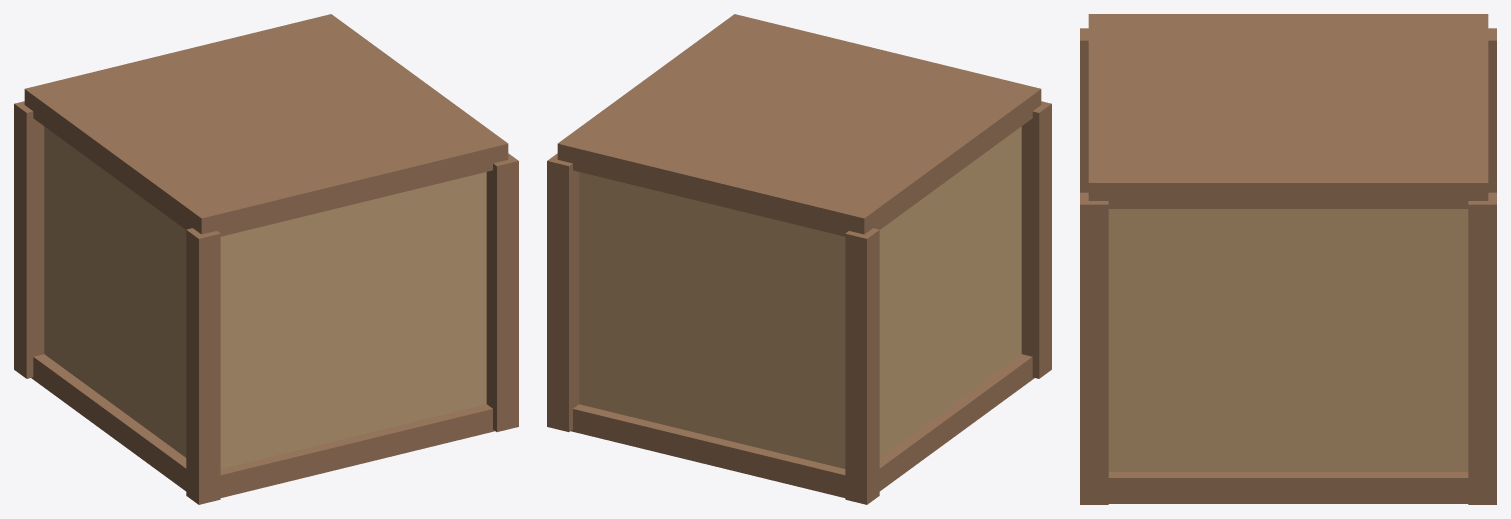
The model's file is crate_01.glb.
3 views of the same model, side by side, from view 1: azimuth 30°, elevation 25°; view 2: azimuth 150°, elevation 25°; view 3: azimuth 270°, elevation 25° (orthographic). The views are drawn at different scales.
Parts seen in each view (by area): view 1: Crate01; view 2: Crate01; view 3: Crate01.
Boxes of the visible parts, x1,y1,x2,y2 form: Crate01: [14, 14, 518, 504]; Crate01: [547, 14, 1051, 504]; Crate01: [1080, 14, 1496, 504].
Bounding box in the file's own units: 0.73 × 0.62 × 0.73.
